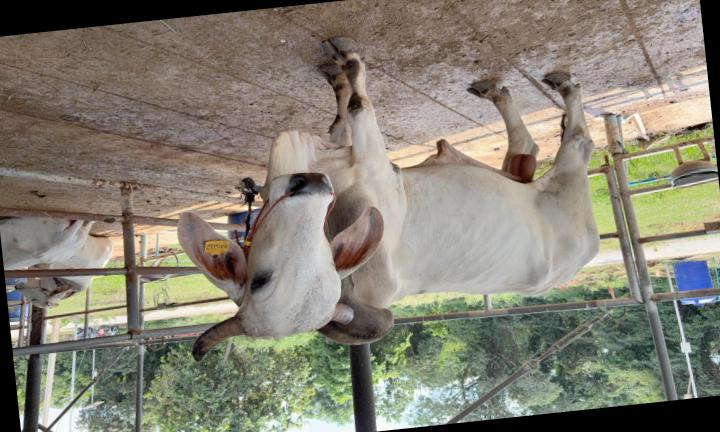Brahman: (177, 38, 599, 361)
